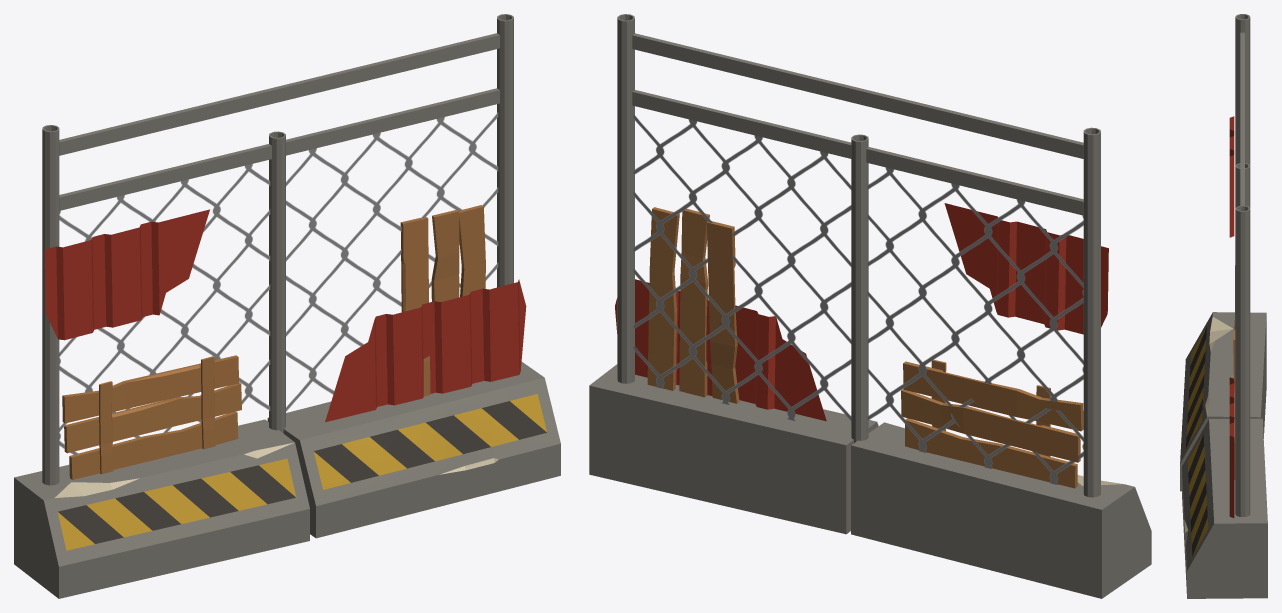
The model's file is cc0-barrier-fixed-lod1.glb.
3 views of the same model, side by side, from view 1: azimuth 30°, elevation 25°; view 2: azimuth 150°, elevation 25°; view 3: azimuth 270°, elevation 25° (orthographic). The views are drawn at different scales.
Parts seen in each view (by area): view 1: part_0; view 2: part_0; view 3: part_0.
Boxes of the visible parts, x1,y1,x2,y2 form: part_0: (14, 14, 560, 598); part_0: (589, 14, 1151, 598); part_0: (1180, 14, 1267, 598).
Bounding box in the file's own units: 3.81 × 3.18 × 0.6666.
Materials: 2 (1 with a texture image).
